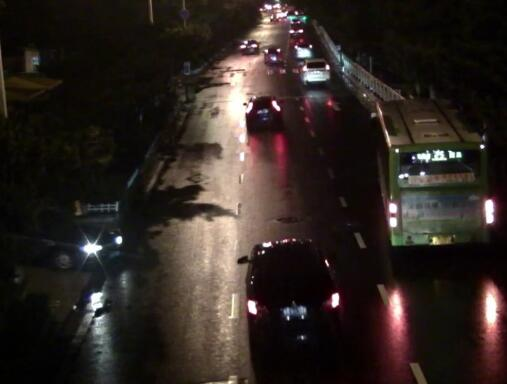bus: (368, 99, 494, 244)
car: (236, 235, 344, 335), (6, 200, 124, 265), (240, 94, 283, 131), (297, 58, 332, 87), (261, 45, 283, 65), (293, 40, 313, 59), (286, 21, 307, 34), (240, 38, 257, 54)
